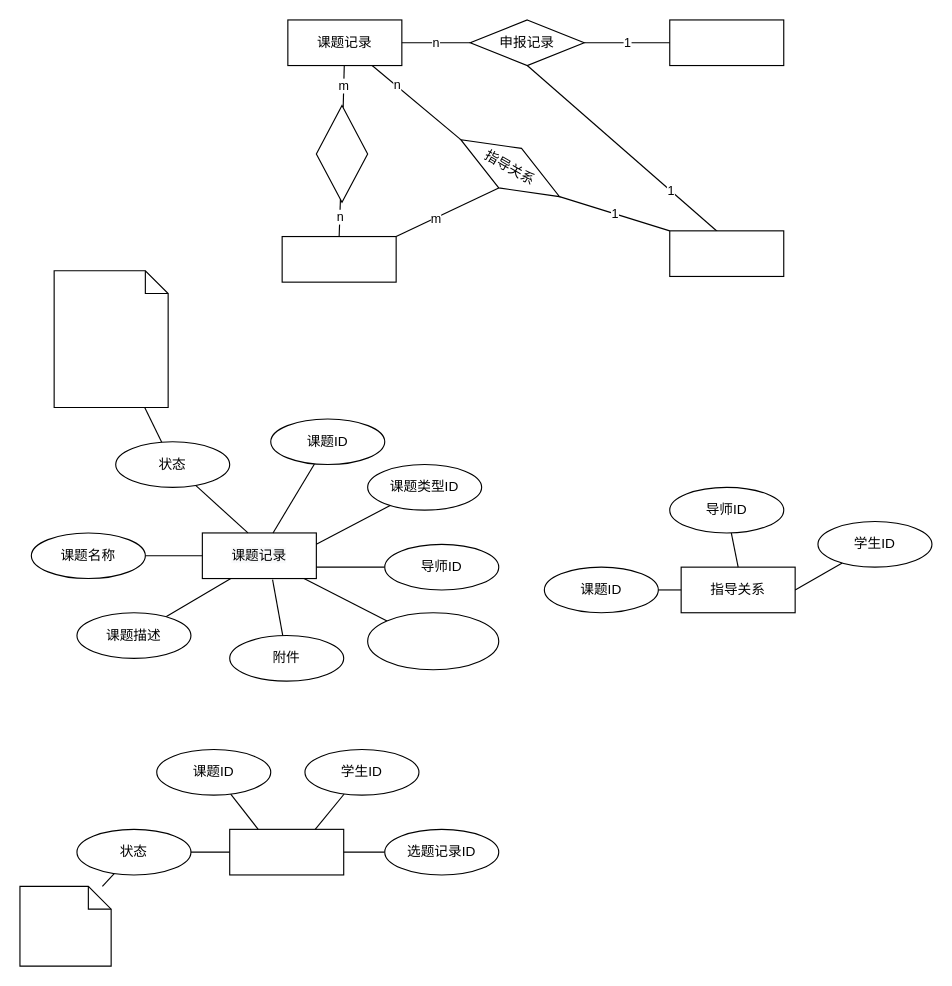
Some shapes in this 952 by 986 pixel diagram are drawn without their labels. Here are the shapes that lost their labels. From the top down, the centre of each, then its label:
At point 726,42: "专业负责人".
At point 341,153: "选 题 记 录".
At point 338,258: "学生".
At point 726,253: "导师".
At point 110,339: "起草、 已提交、 审核中、 已通过、 未通过、 已撤回、 已发布、 申请改题中".
At point 433,641: "上一次提交的课题ID".
At point 286,851: "选题记录".
At point 65,925: "同意、拒绝".
